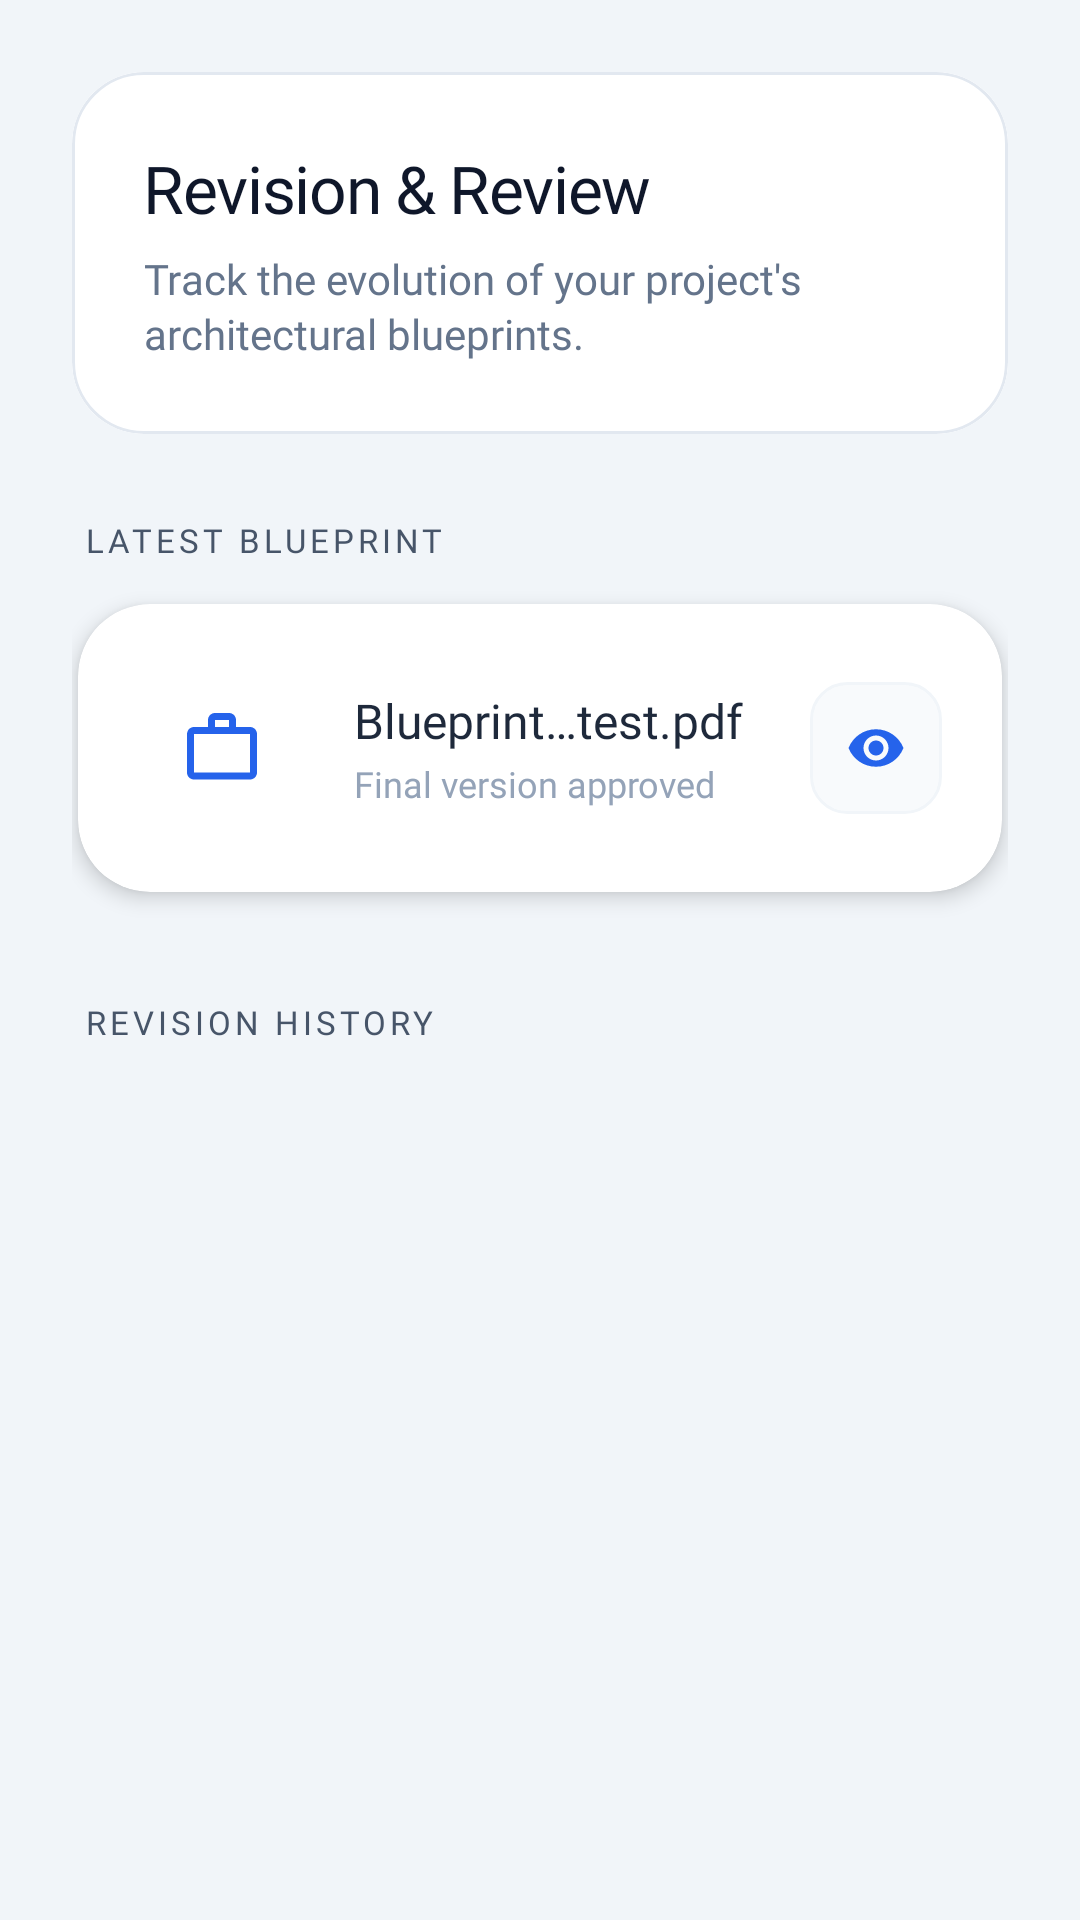

Icons on this 1080px x 1920px Android screen, each with its box as (x1, y1, x2, y2):
eye: (848, 729, 904, 767)
work: (187, 713, 257, 780)
